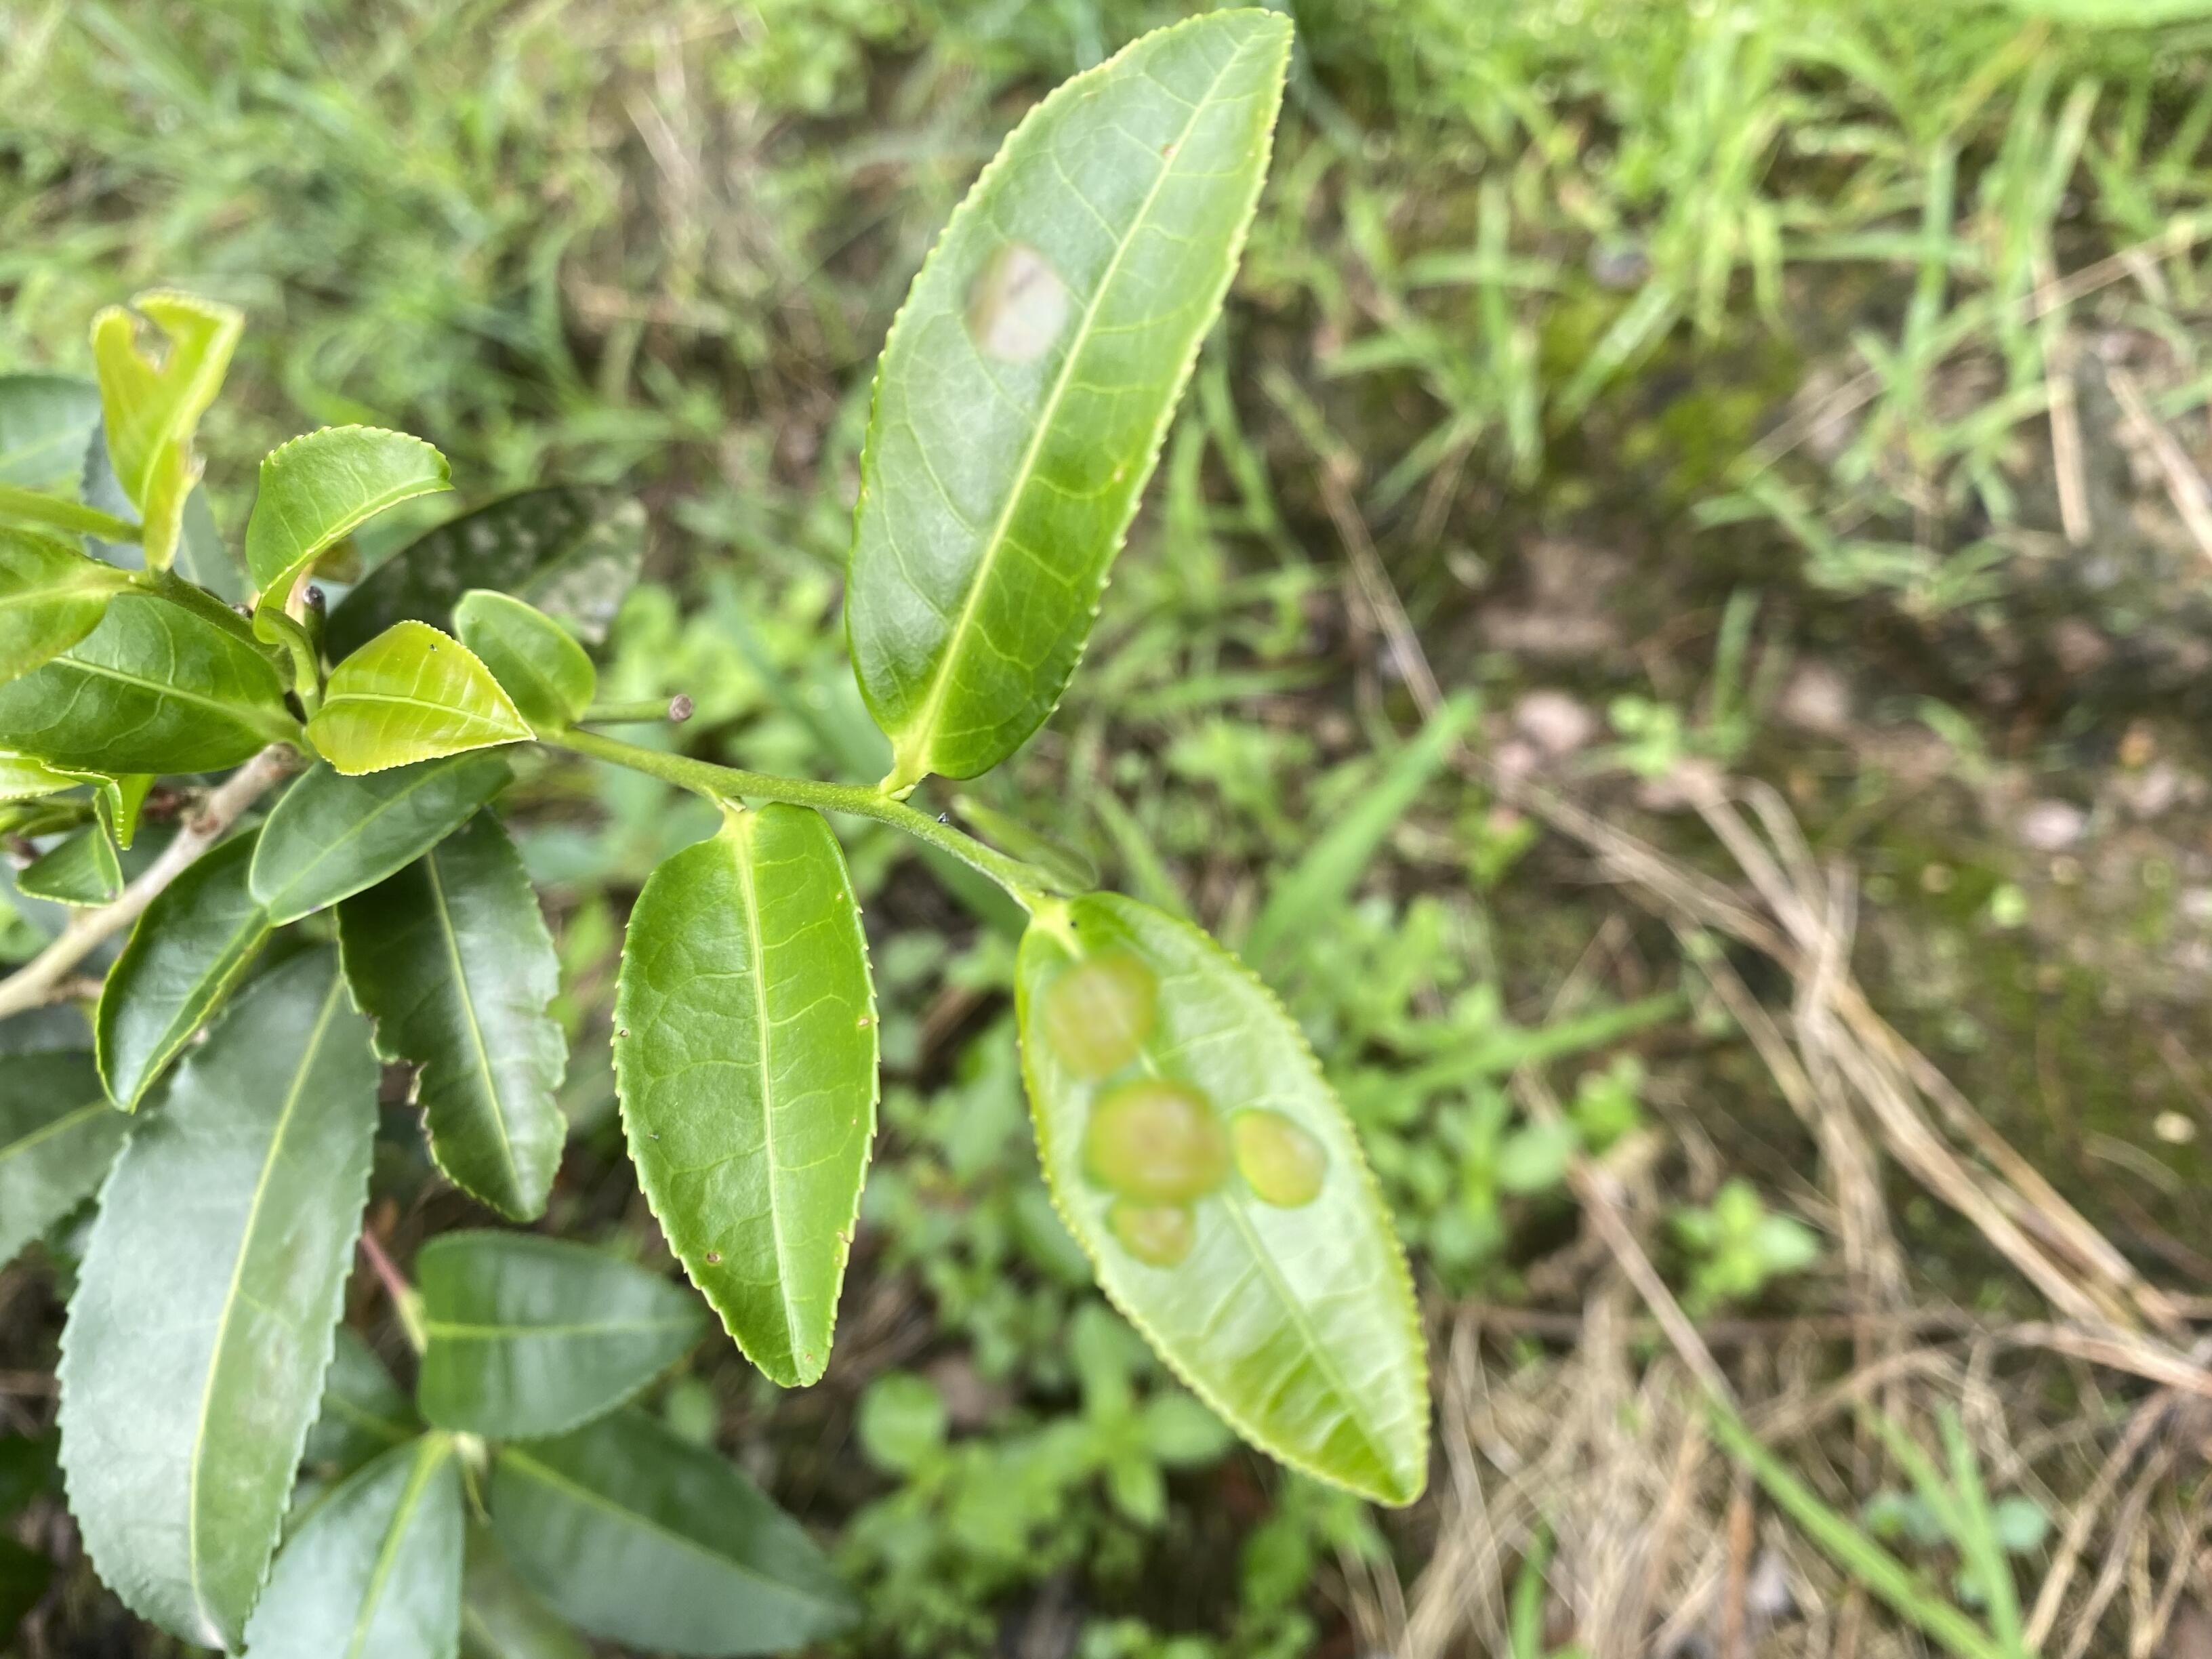chabing_high: (1012, 889, 1435, 1504)
chabing_low: (848, 7, 1292, 784)
chihuo_high: (336, 814, 575, 1225), (84, 289, 242, 572)
healthy: (56, 951, 383, 1656), (615, 803, 883, 1394), (98, 824, 268, 1105), (240, 423, 458, 643), (14, 789, 125, 908)
